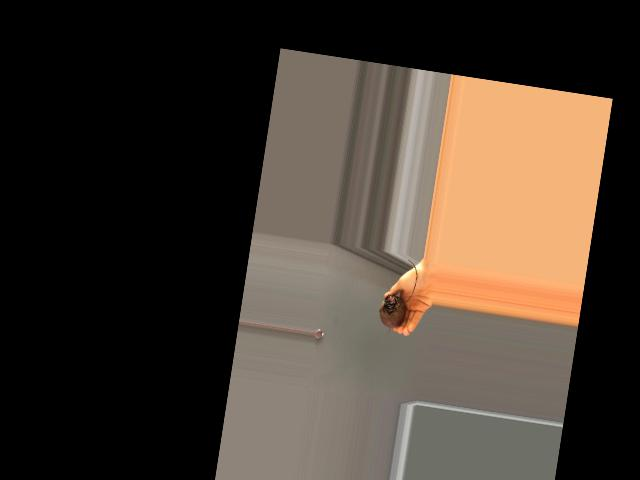beet: (376, 258, 420, 339)
